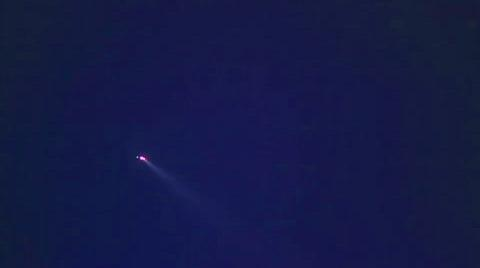Plane: (121, 146, 190, 190)
